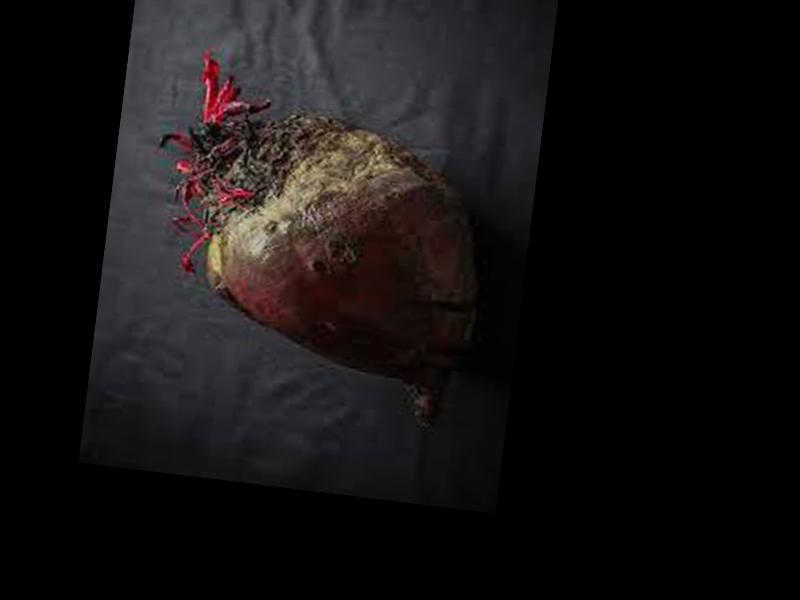Beet: (128, 47, 501, 433)
